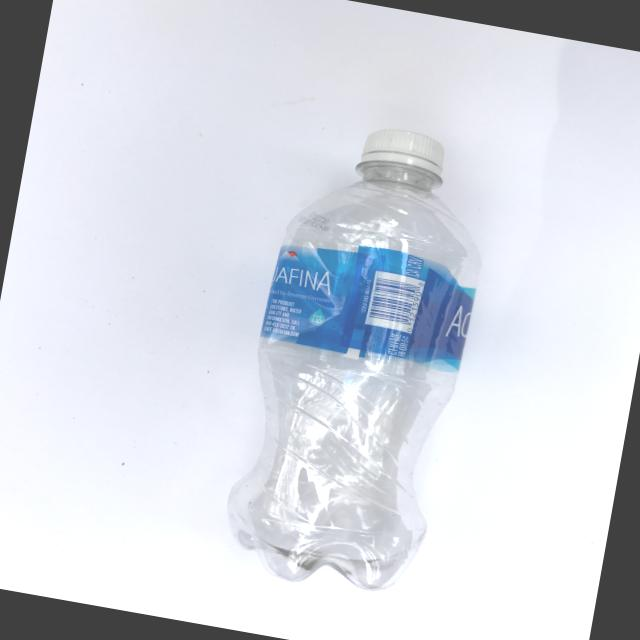Plastic: (166, 56, 548, 630)
